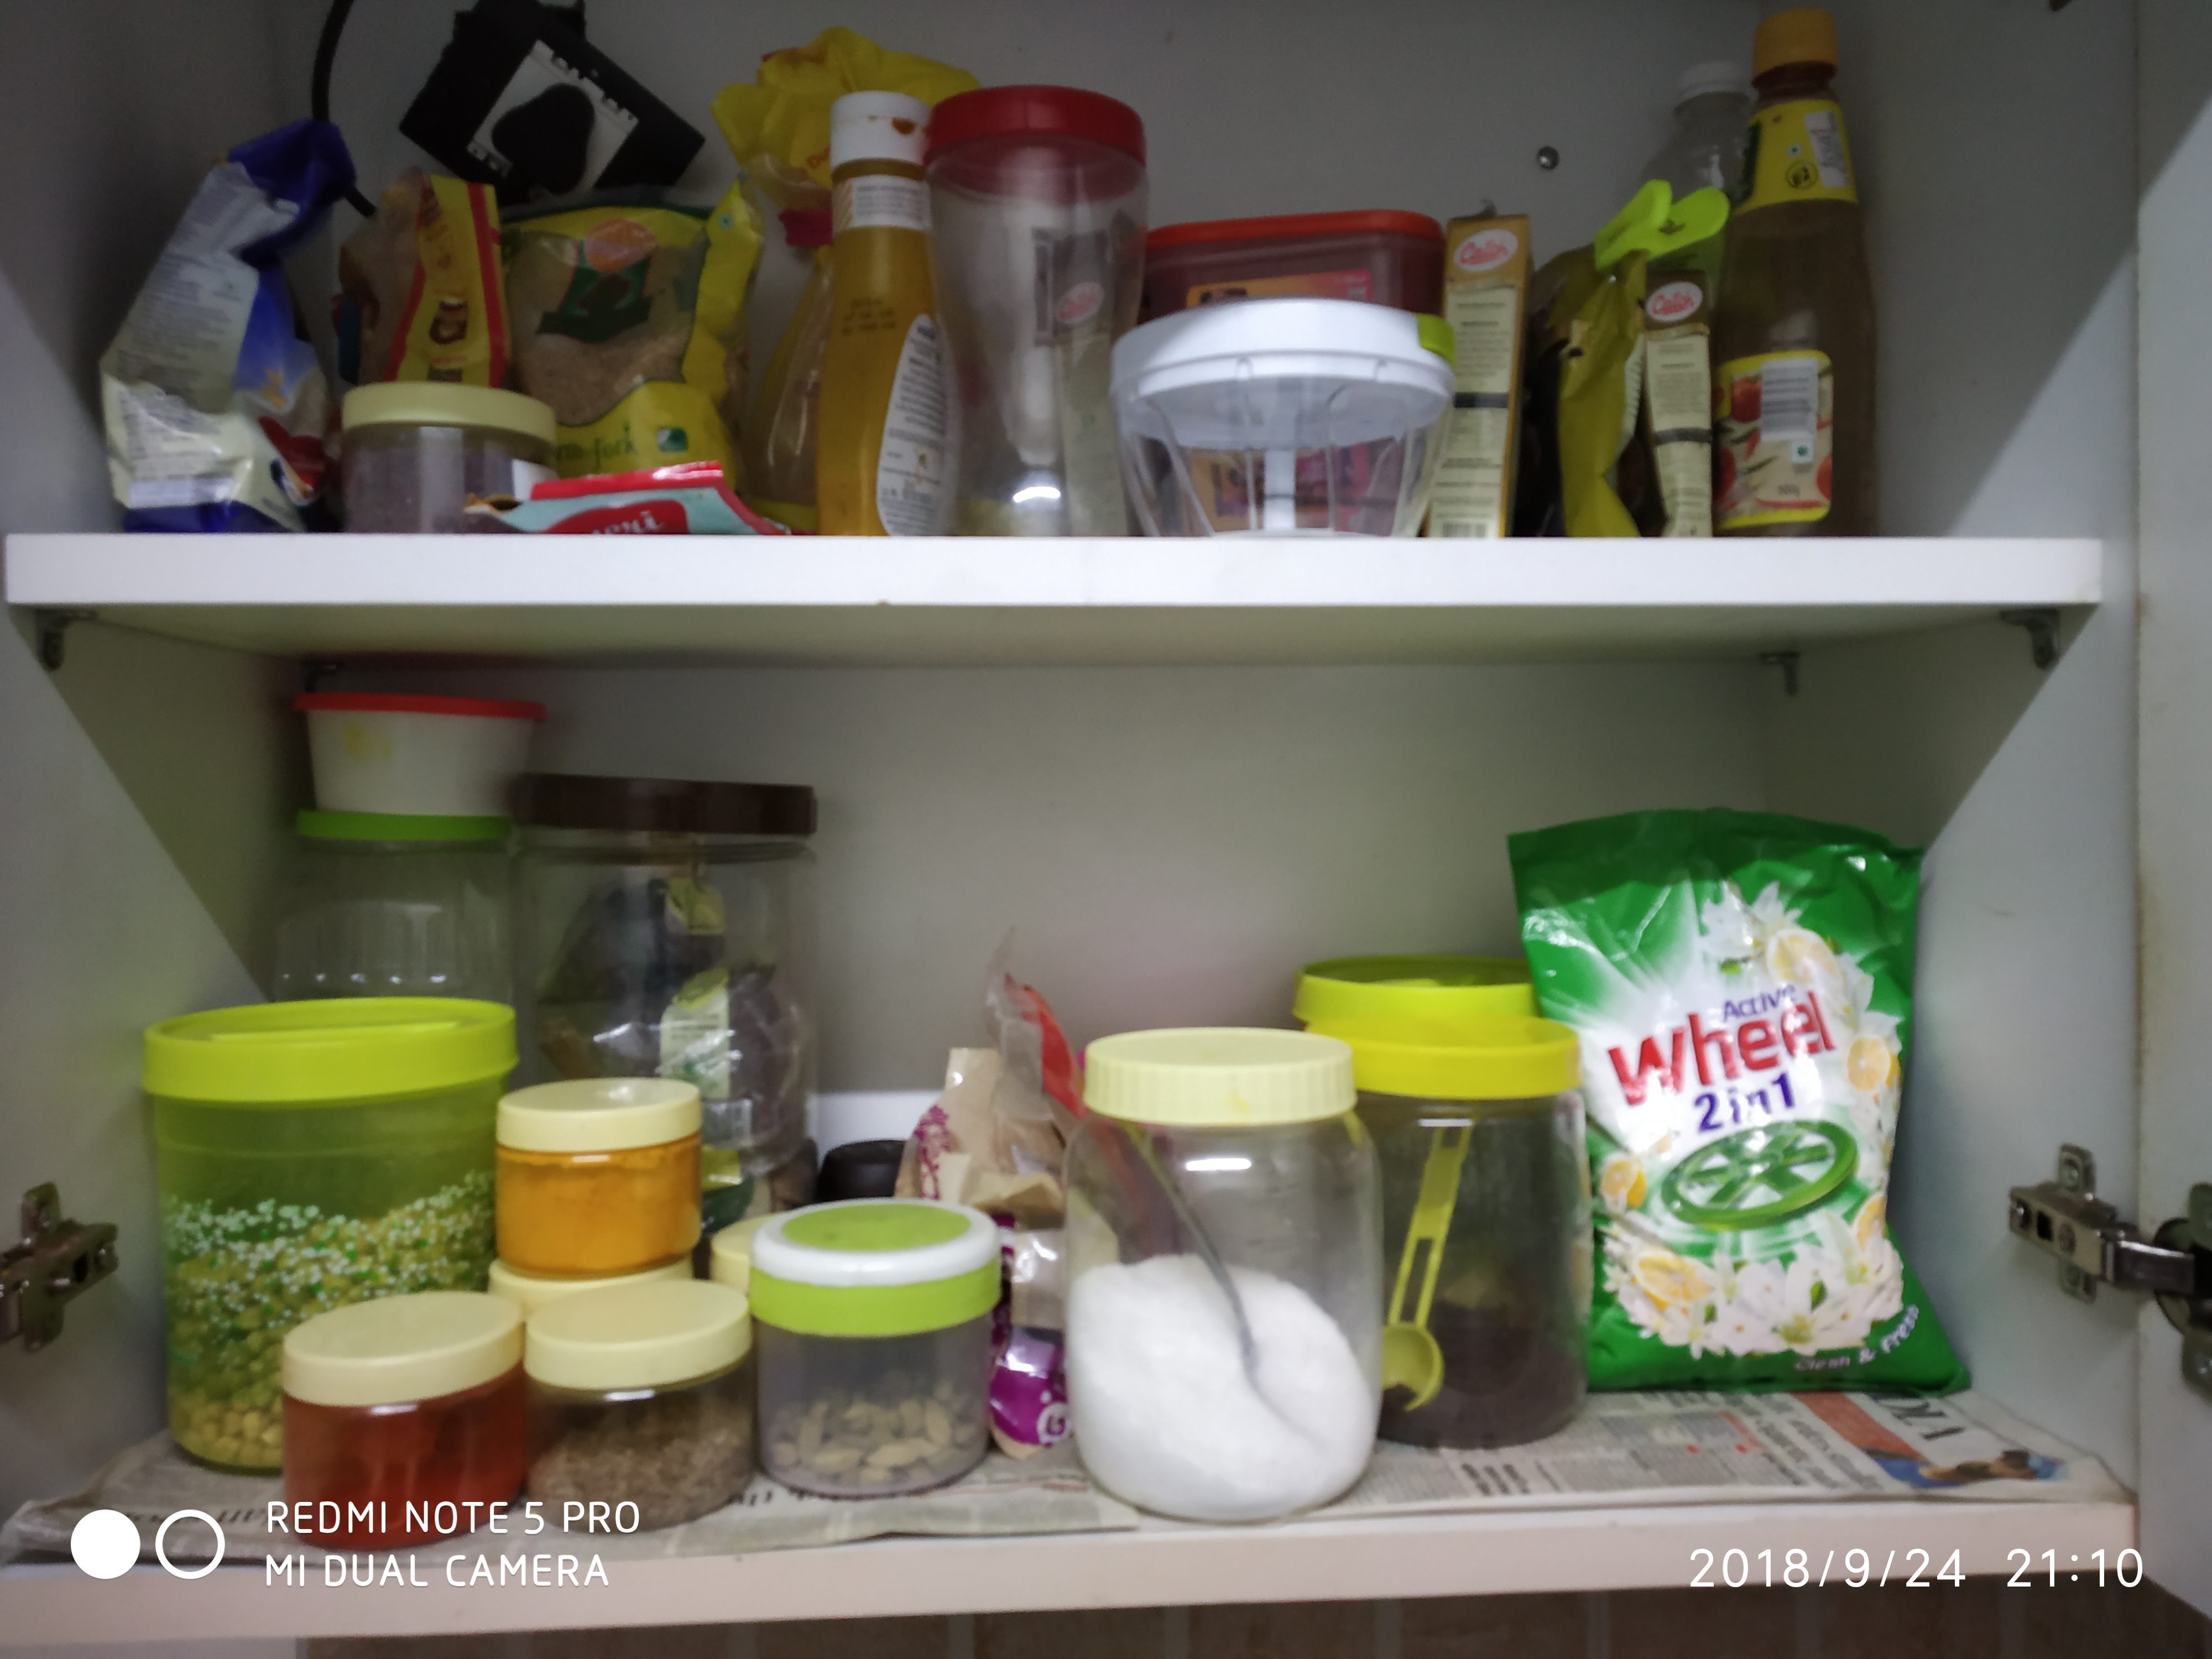detergent: (1562, 805, 1954, 1380)
